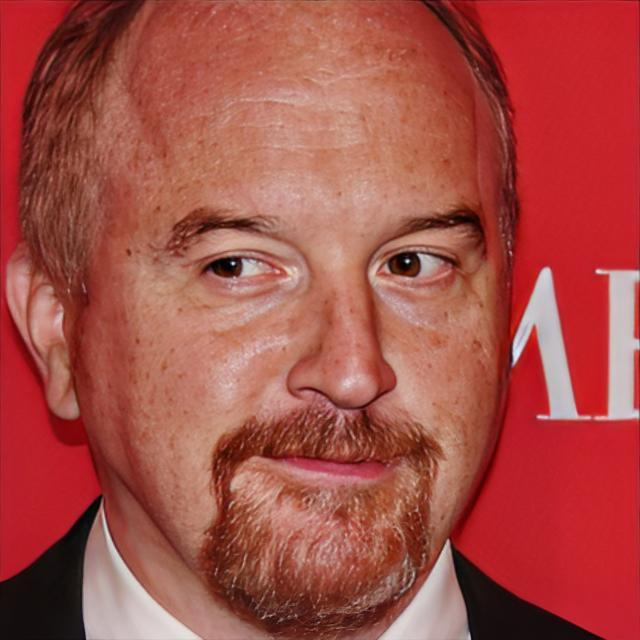content: (92, 39, 512, 600)
